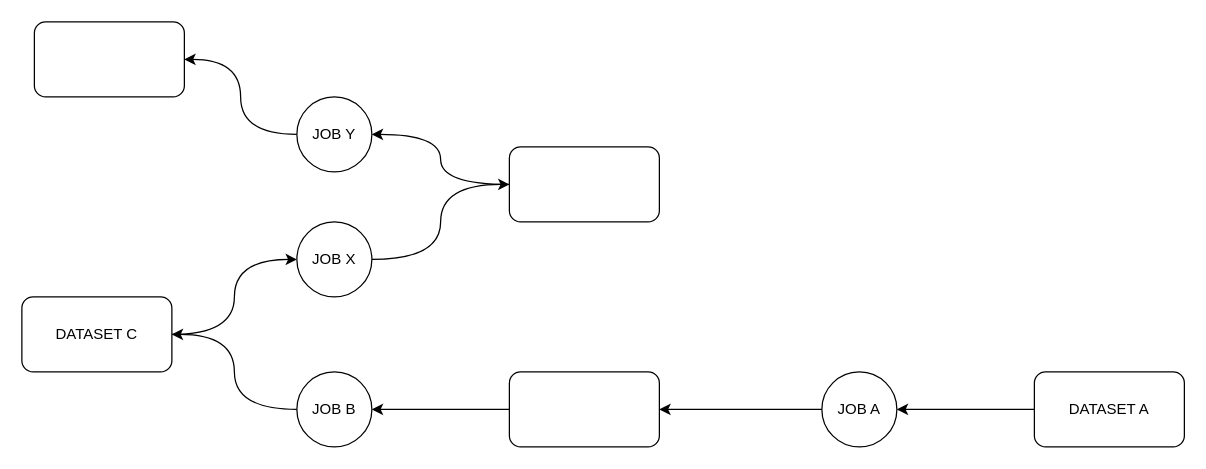
This 1206x469 diagram has some shape labels left out. Each missing label, with the centre of its shape:
DATASET B: (x=583, y=409)
DATASET X: (x=583, y=184)
DATASET Y: (x=108, y=59)
